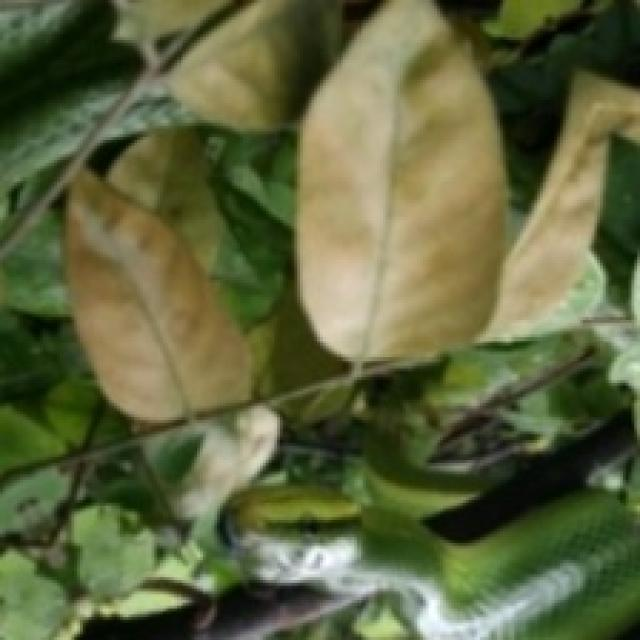red-tailed green ratsnake: (230, 460, 640, 640), (0, 0, 141, 221), (110, 86, 198, 139)
